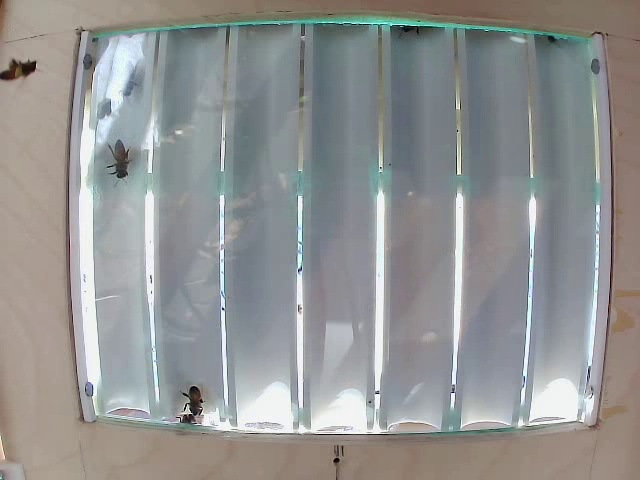bee: (104, 133, 144, 195)
